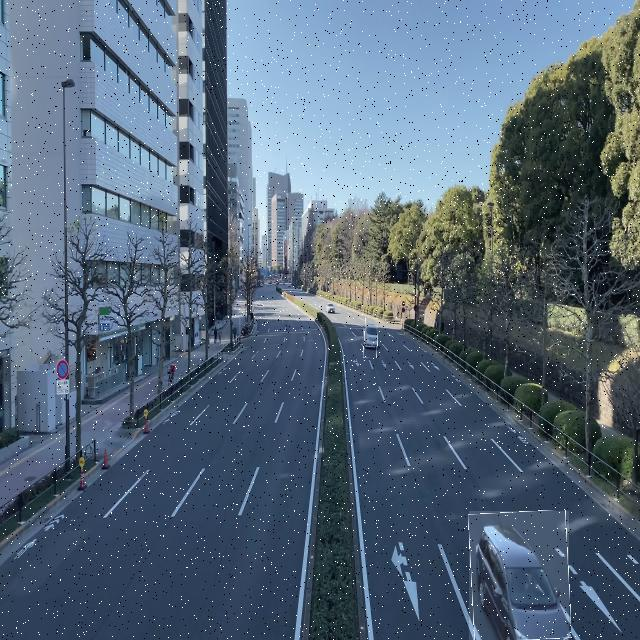Car: (469, 511, 569, 640), (363, 318, 378, 358)
